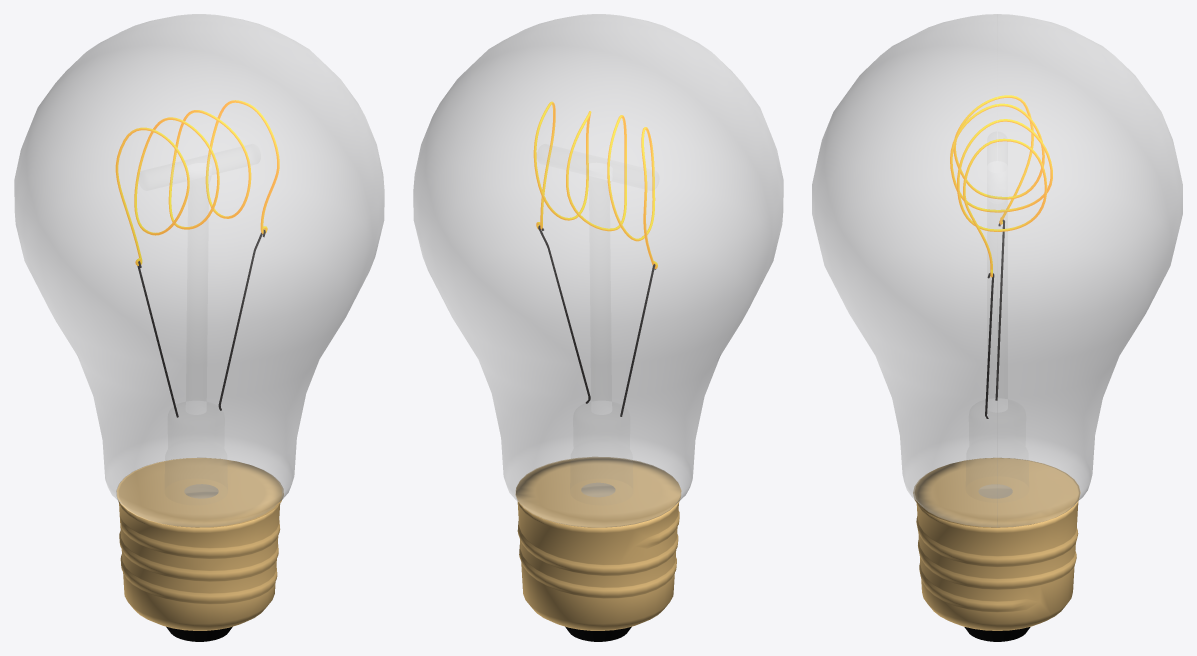
File: Bulb-transformed.glb
The picture shows the model from 3 angles, left to right: view 1: azimuth 30°, elevation 25°; view 2: azimuth 150°, elevation 25°; view 3: azimuth 270°, elevation 25°; orthographic projection.
Parts seen in each view (by area): view 1: Object_3, Object_2, Object_5; view 2: Object_3, Object_2, Object_5; view 3: Object_3, Object_2, Object_5.
Boxes of the visible parts, x1,y1,x2,y2 form: Object_3: (14, 14, 384, 526); Object_2: (116, 230, 283, 641); Object_5: (115, 100, 279, 265); Object_3: (413, 14, 783, 527); Object_2: (515, 225, 681, 641); Object_5: (533, 101, 657, 268); Object_3: (812, 14, 1182, 527); Object_2: (913, 219, 1080, 641); Object_5: (950, 95, 1052, 277).
Bounding box in the file's own units: 4.96 × 8.93 × 4.96.
4 materials, 4 textured.
